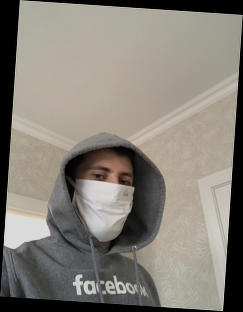with_mask: (74, 160, 135, 244)
